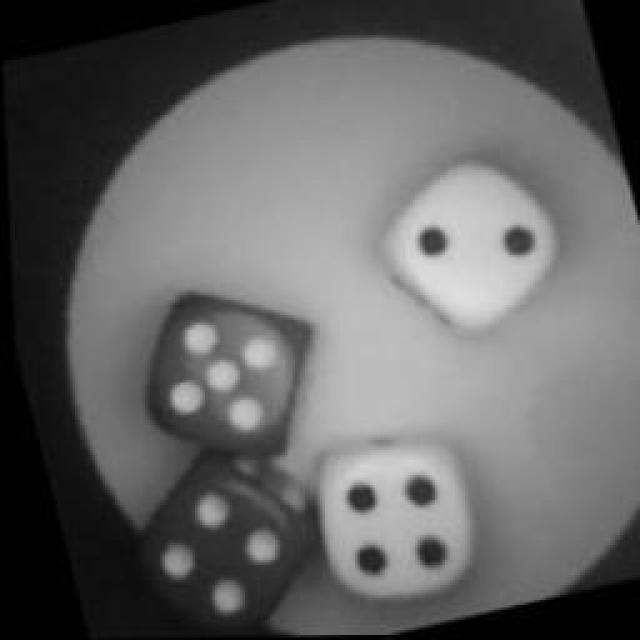dice_2: (360, 136, 580, 352)
dice_4: (97, 440, 325, 640), (284, 412, 488, 622)
dice_5: (112, 261, 340, 479)
